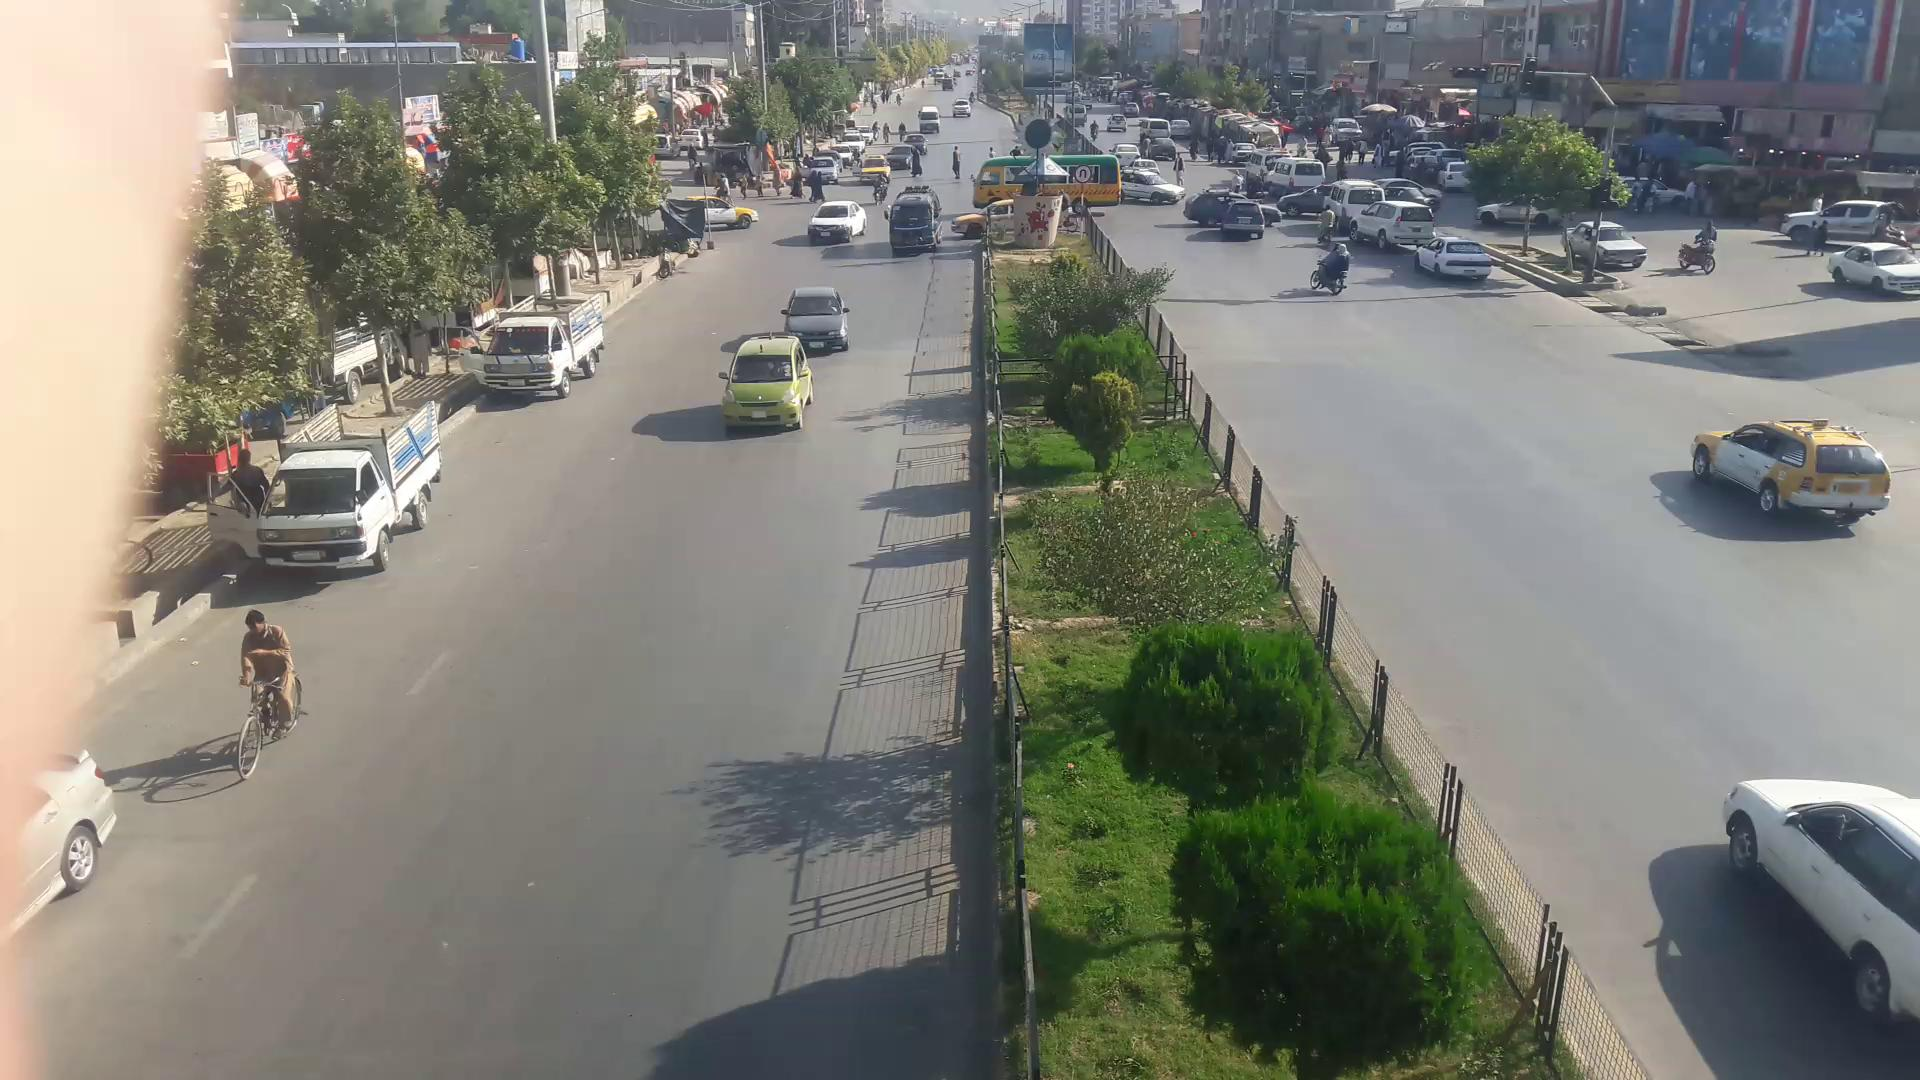bike: (1672, 228, 1718, 272)
bus: (470, 294, 600, 392), (717, 333, 811, 436), (889, 186, 945, 247)
car: (1727, 773, 1920, 1040), (1828, 244, 1919, 300), (783, 289, 850, 355), (1573, 225, 1651, 274), (1415, 243, 1491, 284), (684, 199, 762, 233), (805, 205, 865, 244), (1121, 185, 1179, 208)
truck: (1682, 419, 1893, 529), (244, 442, 399, 576), (1816, 200, 1902, 244)
